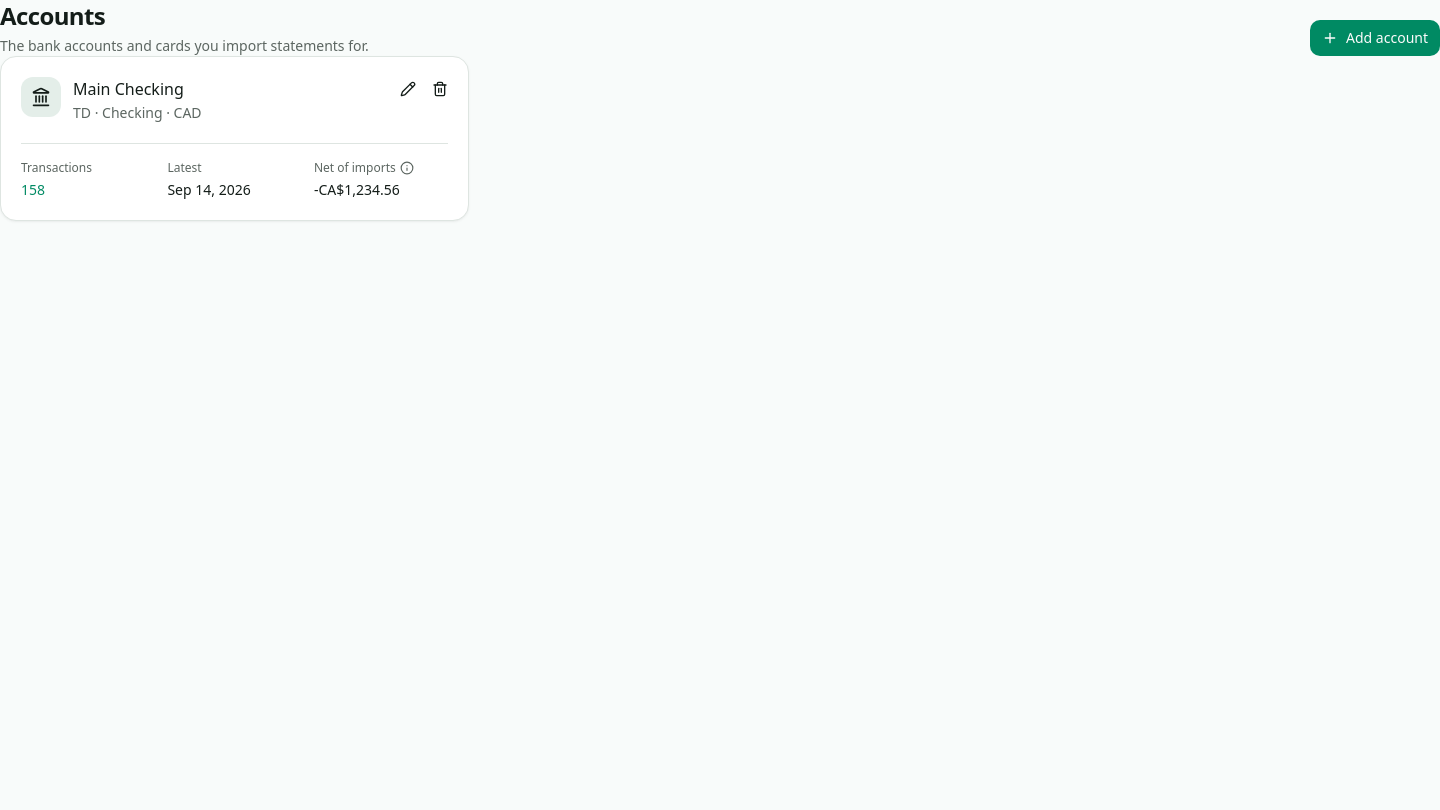
it: AccountsScreen › keeps the dialog open and explains a failed add
Click the button "Add account": click(1375, 38) left=1310, top=20, right=1439, bottom=56
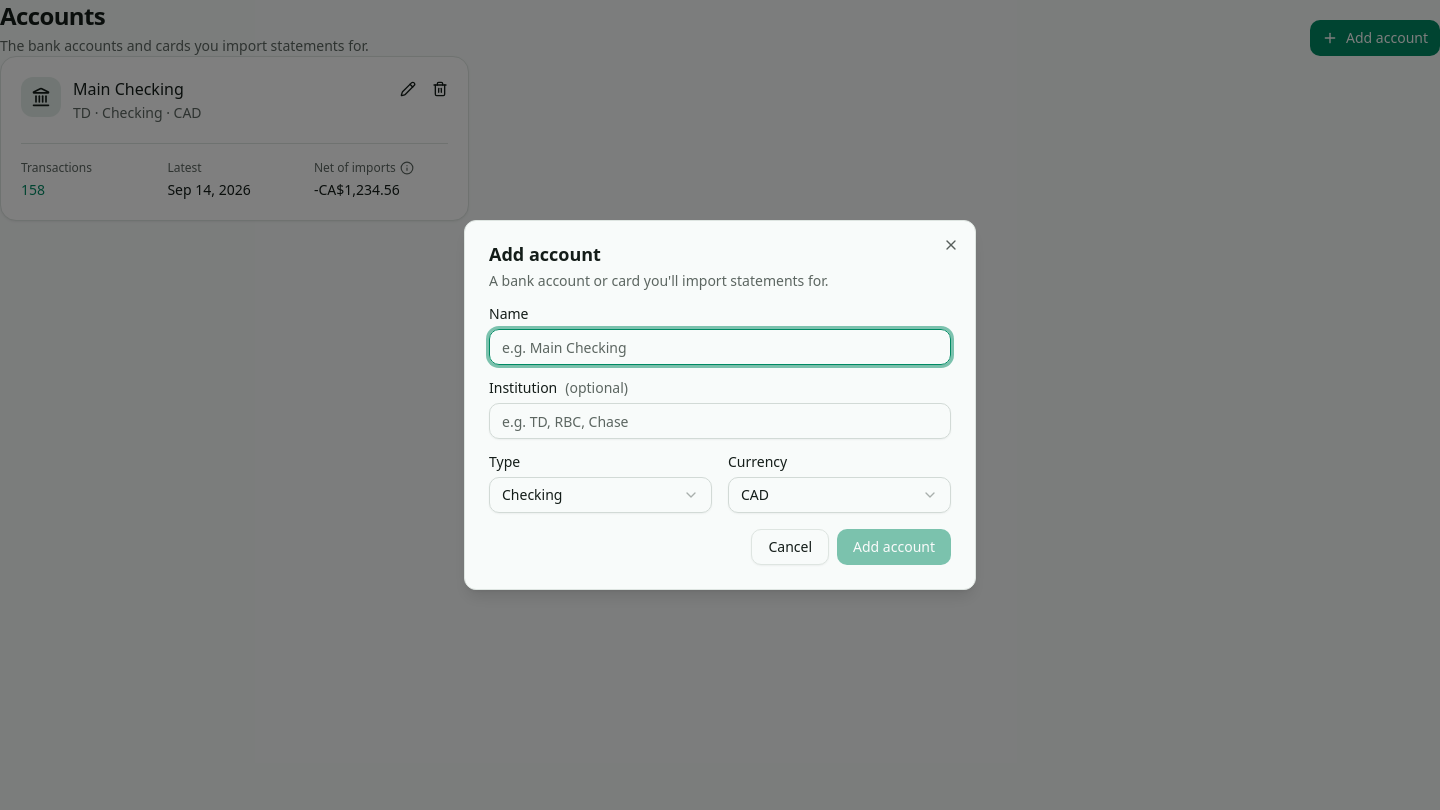
In the field labelled "Name": (720, 347) left=489, top=329, right=951, bottom=365, type "Visa"
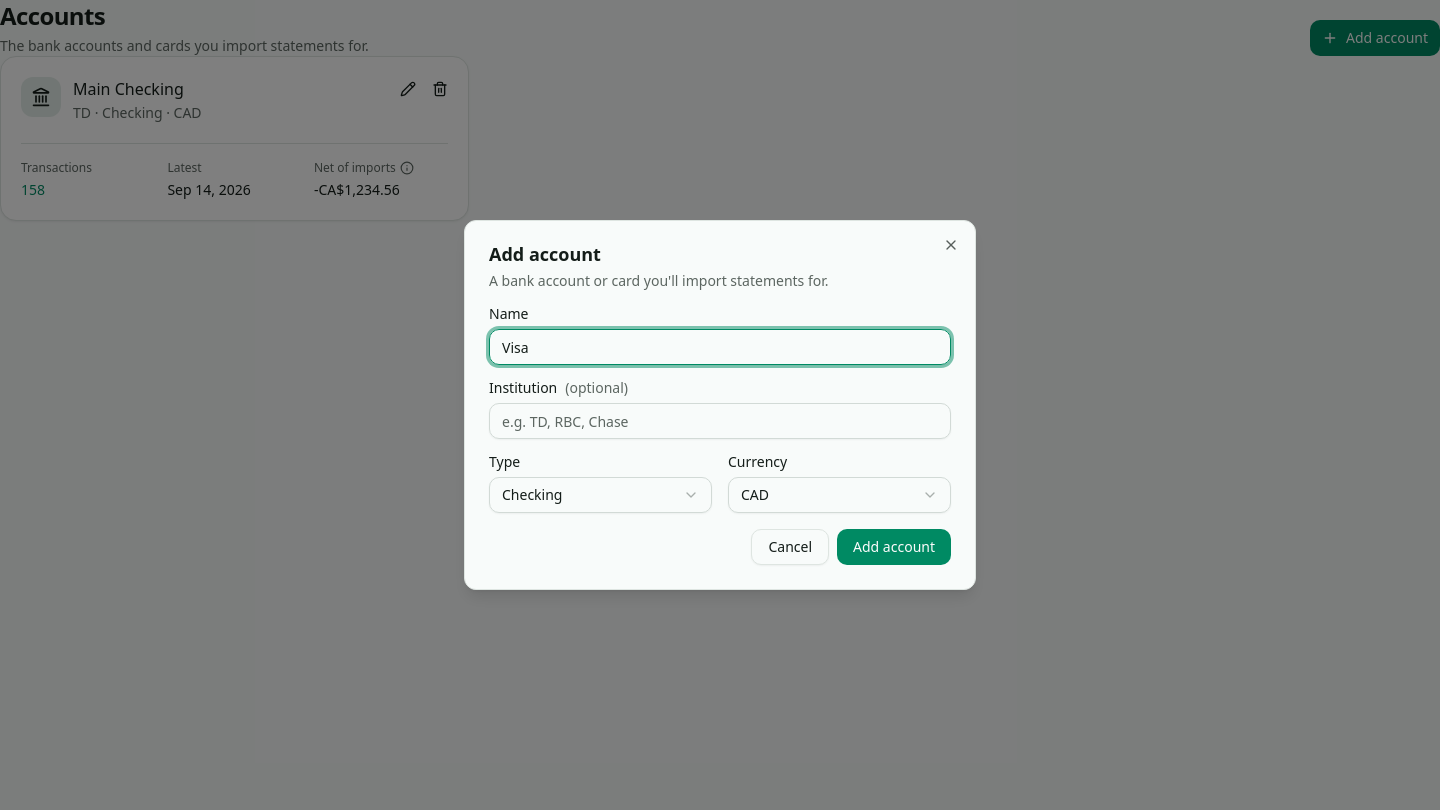
Click the button "Add account": click(894, 547) left=837, top=529, right=951, bottom=565
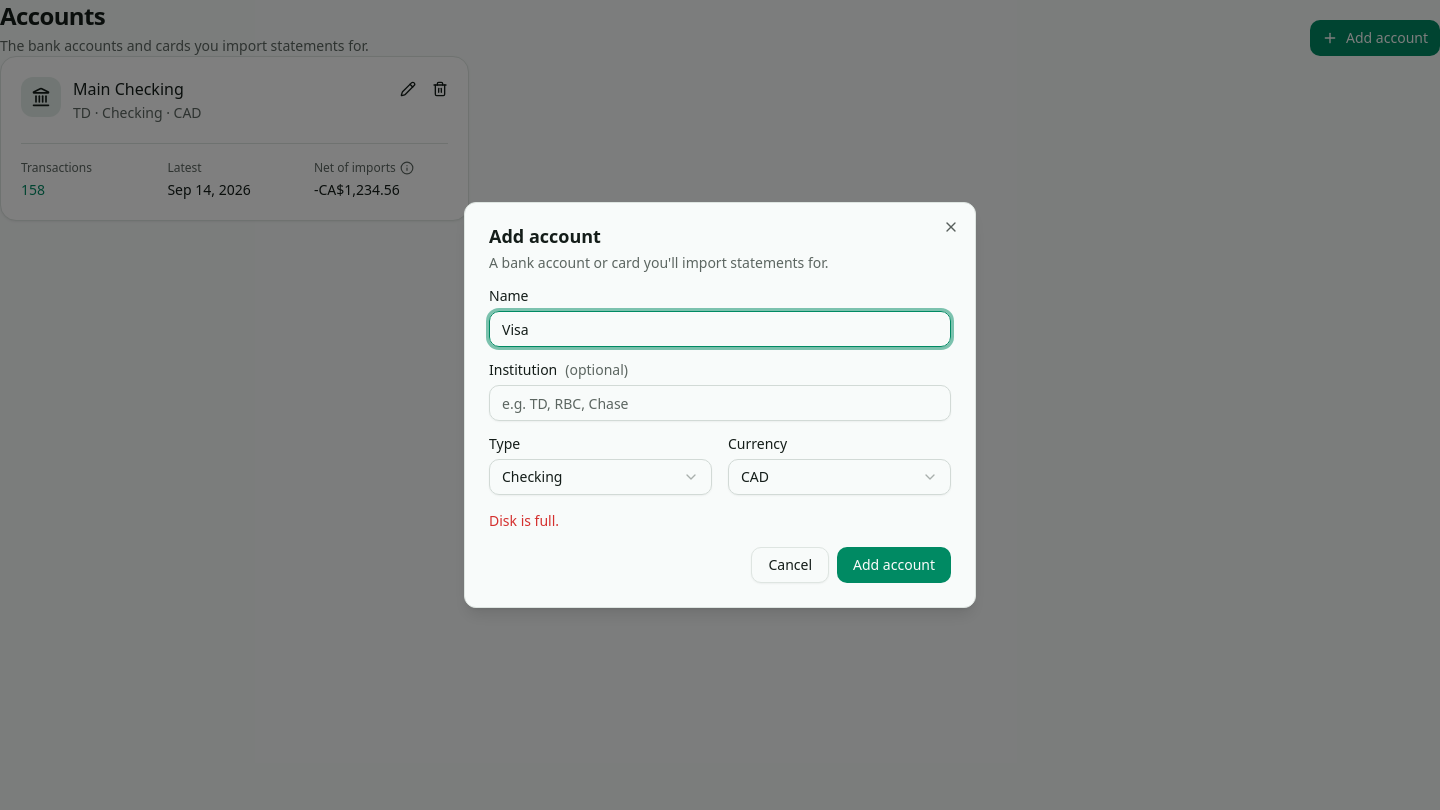
Now the message reads "Disk is full.", box left=489, top=511, right=559, bottom=530
